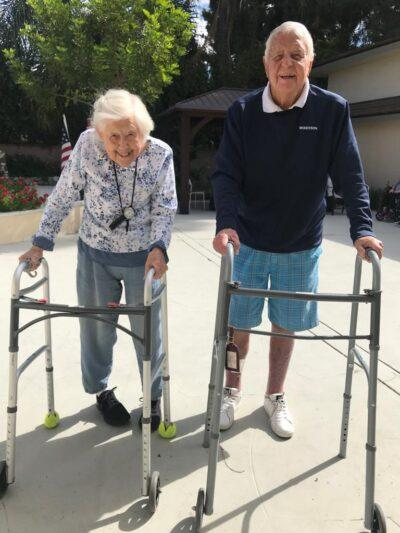walking_frame: (194, 22, 387, 533), (0, 89, 177, 512)
